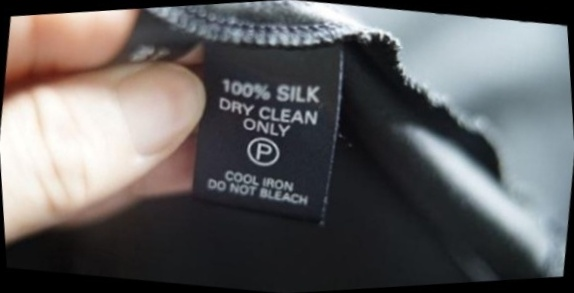dry_clean_any_solvent_except_trichloroethylene: (243, 131, 286, 171)
